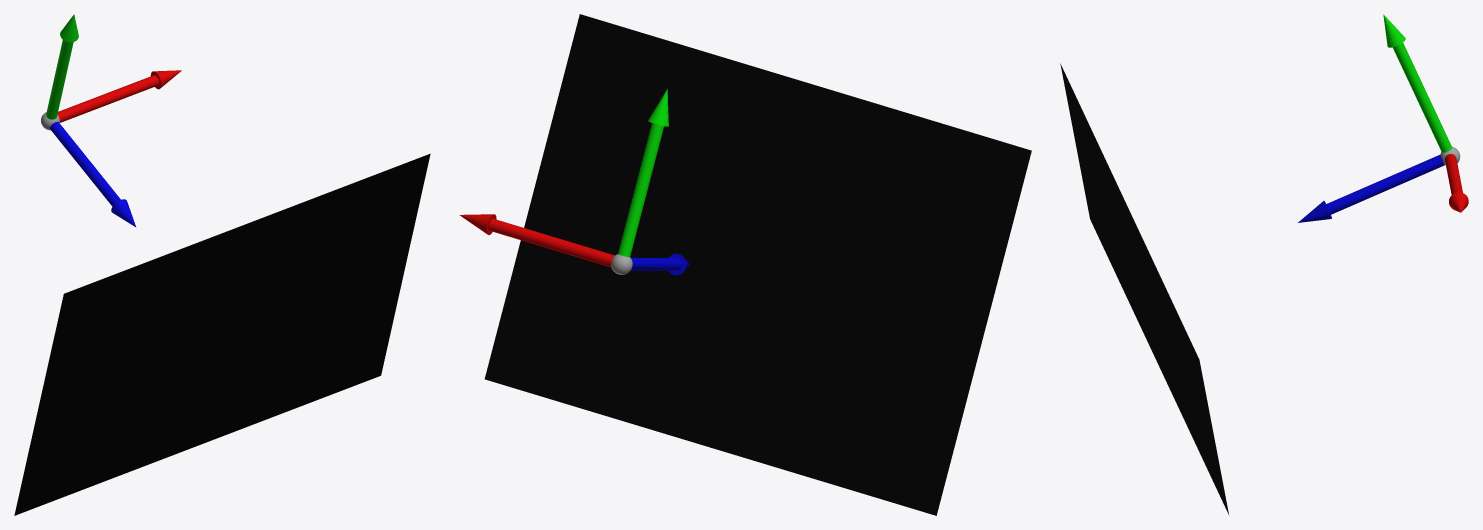
The picture shows the model from 3 angles, left to right: view 1: azimuth 30°, elevation 25°; view 2: azimuth 150°, elevation 25°; view 3: azimuth 270°, elevation 25°; orthographic projection. The views are drawn at different scales.
Size of the model in its own units: 0.3604 by 0.3478 by 0.3056.
